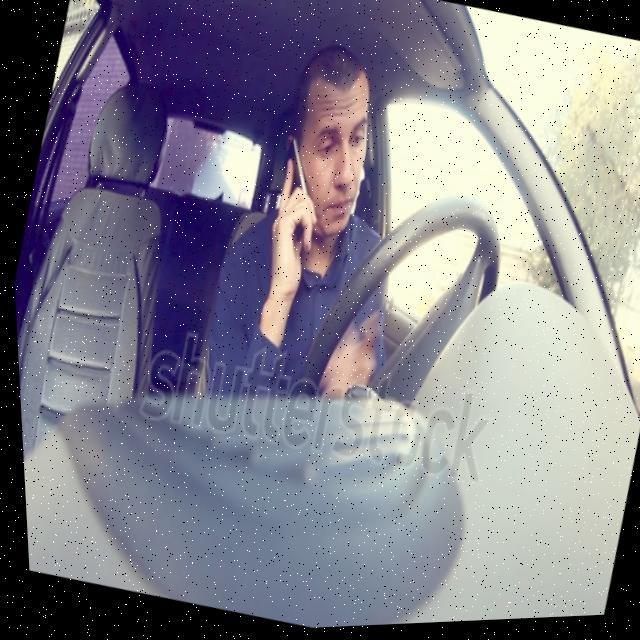PhoneCall: (260, 139, 328, 247)
